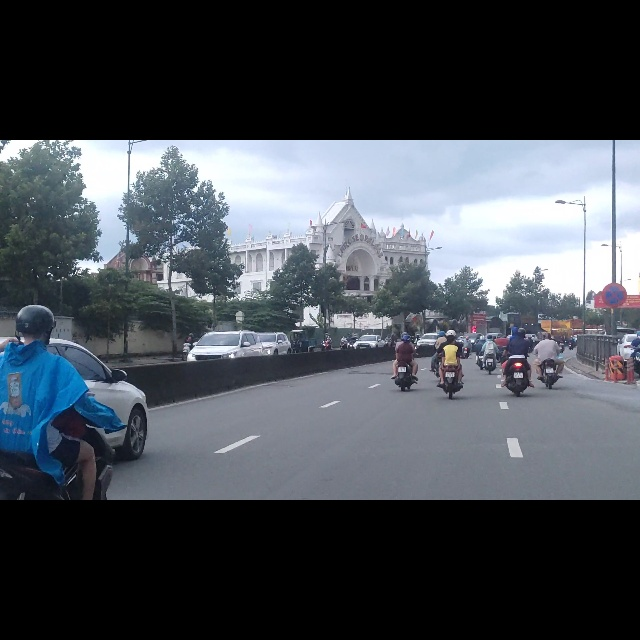bien_cam: (602, 253, 627, 298)
